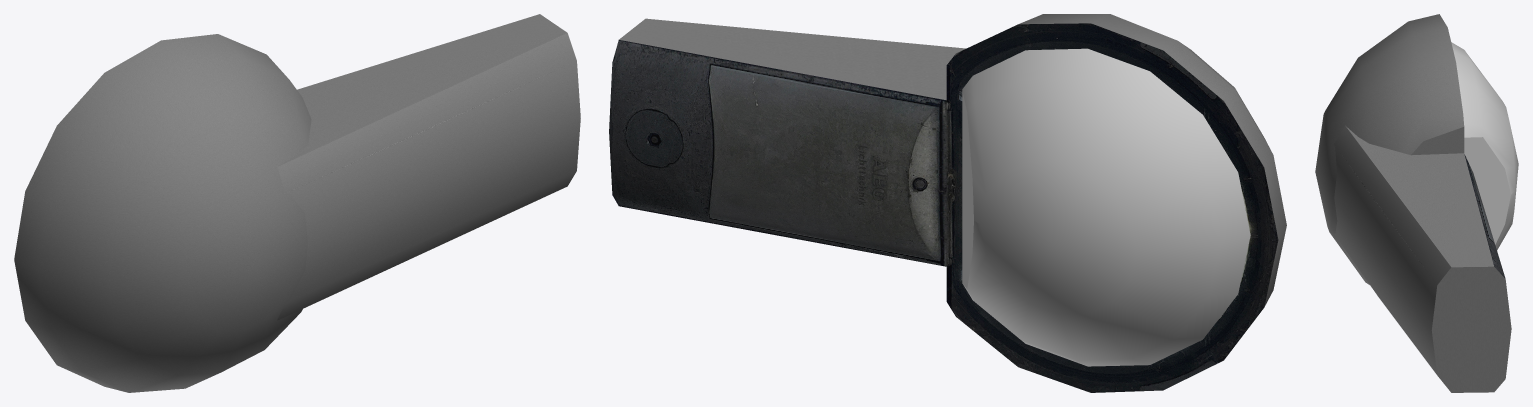
Rendered from Stradasole 530.obj.
3 renders of one model, left to right at view 1: azimuth 30°, elevation 25°; view 2: azimuth 150°, elevation 25°; view 3: azimuth 270°, elevation 25°, orthographic. The views are drawn at different scales.
Parts seen in each view (by area): view 1: Stradasole_530_Cube.001; view 2: Stradasole_530_Cube.001; view 3: Stradasole_530_Cube.001.
Part boxes in pixels (x1,y1,x2,y2): Stradasole_530_Cube.001: [14, 14, 580, 392]; Stradasole_530_Cube.001: [609, 14, 1286, 392]; Stradasole_530_Cube.001: [1315, 14, 1518, 392].
Size of the model in its own units: 0.8929 by 0.5107 by 0.3374.
Materials: 3 (2 with a texture image).
